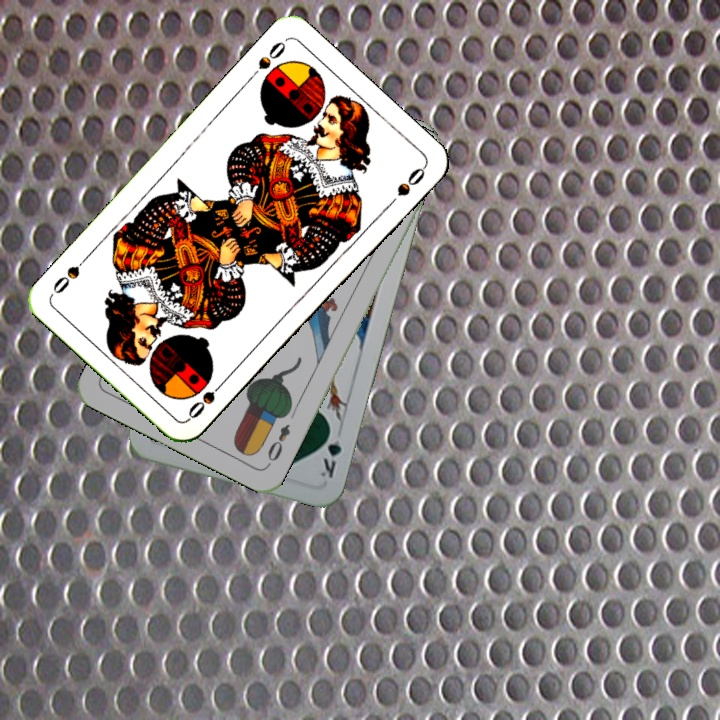EO: (263, 420, 293, 469)
GK: (316, 423, 345, 481)
SO: (244, 36, 289, 84), (184, 375, 229, 422)
